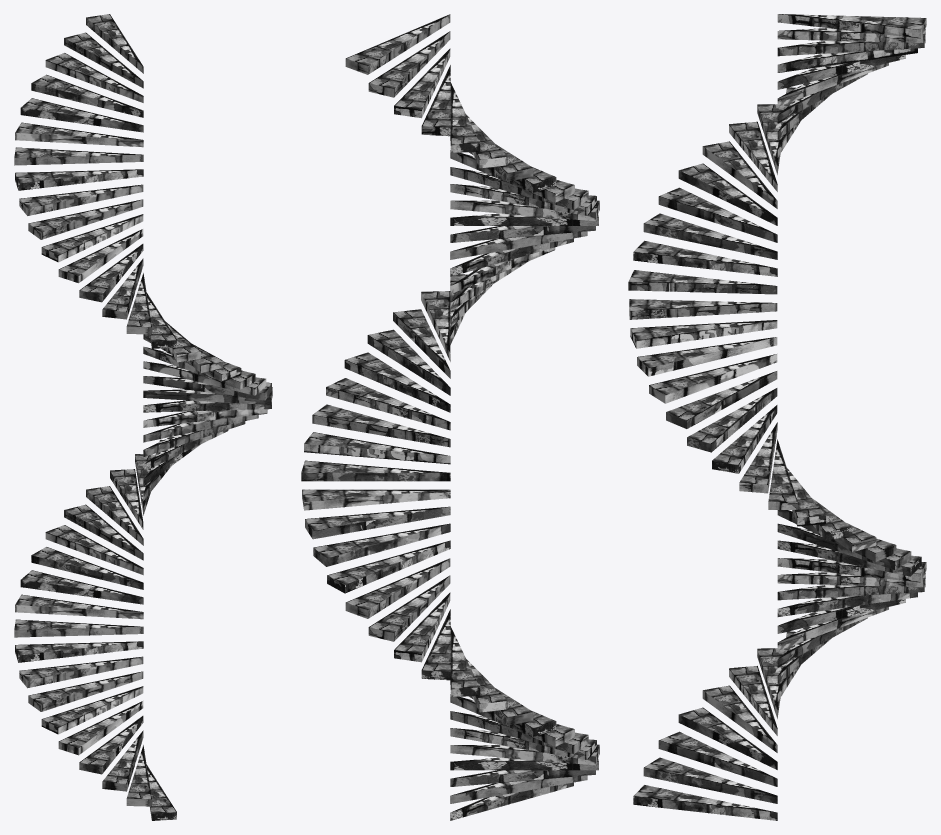
The model's file is SpiralStair.fbx.
3 renders of one model, left to right at view 1: azimuth 30°, elevation 25°; view 2: azimuth 150°, elevation 25°; view 3: azimuth 270°, elevation 25°, orthographic. The views are drawn at different scales.
Parts seen in each view (by area): view 1: SpiralStair; view 2: SpiralStair; view 3: SpiralStair.
Boxes of the visible parts, x1=… form: SpiralStair: x1=14, y1=14, x2=272, y2=820; SpiralStair: x1=301, y1=14, x2=599, y2=820; SpiralStair: x1=628, y1=14, x2=926, y2=820.
Bounding box in the file's own units: 5.18 × 15.48 × 5.18.
